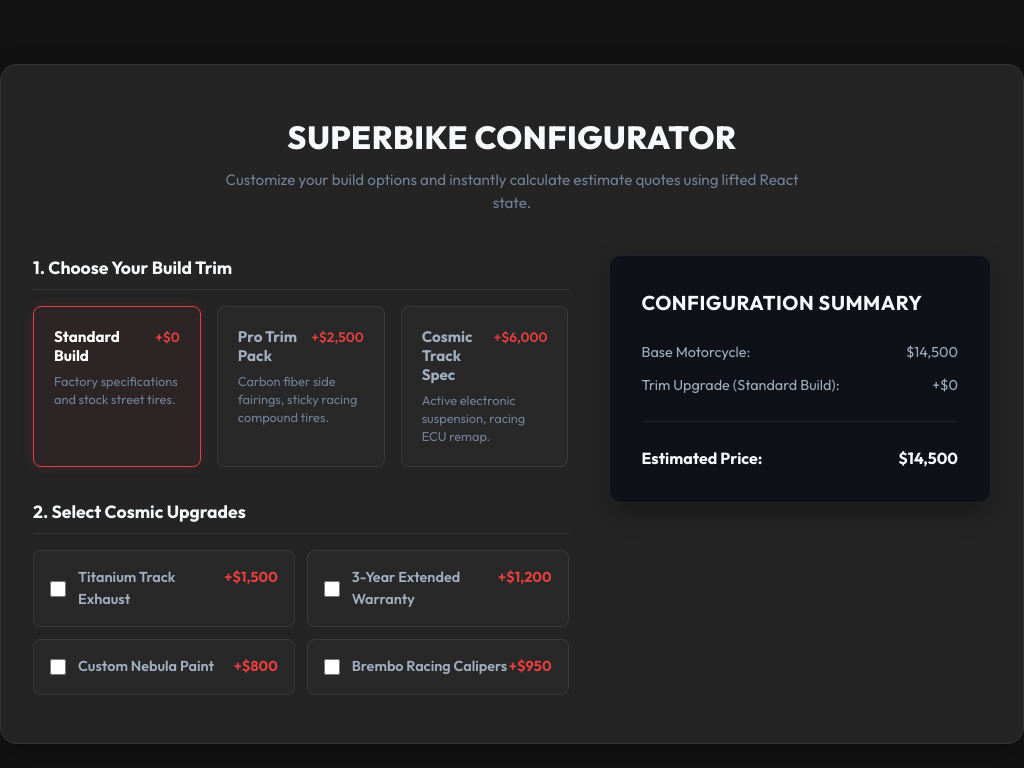
Test: BikeConfigurator Integration Test (Explicit Lifted State) › updates estimated price reactively when selecting a different trim tier
Select the "Pro Trim Pack" button
Click the button "Pro Trim Pack" at {"x": 301, "y": 386}, box [217,306,385,467]
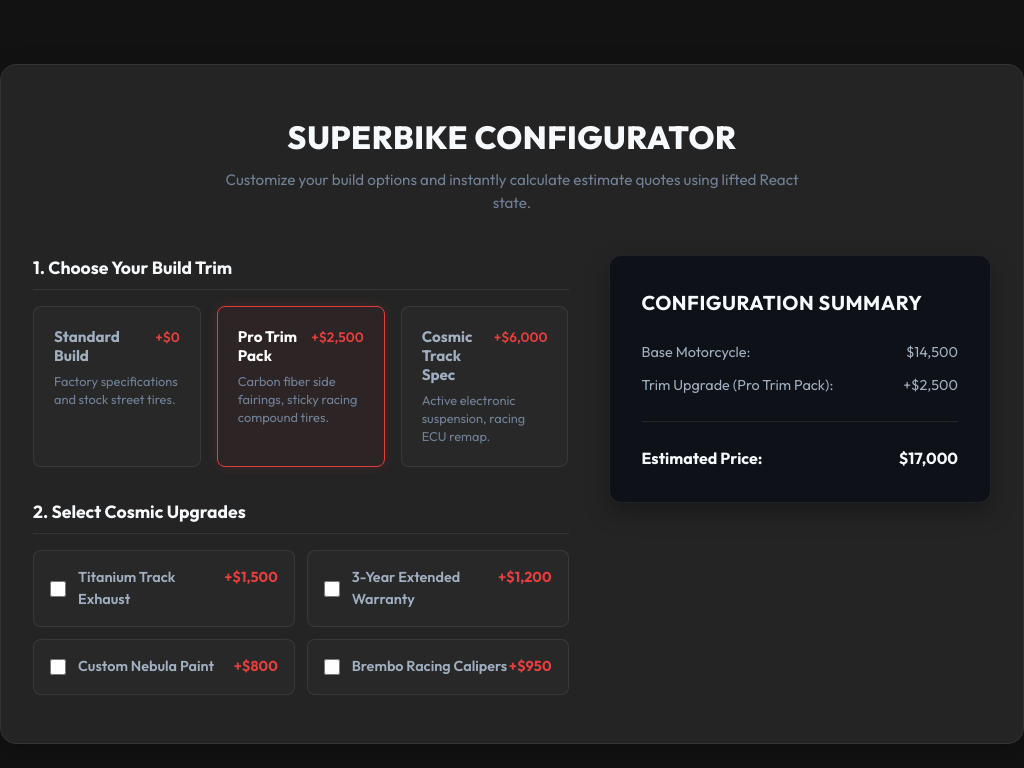
Expected: the text "+$2,500" is shown 2 times, [311,328,364,346]; [903,375,958,397]
Now the text "Trim Upgrade (Pro Trim Pack):" is shown, box [642,375,833,397]
Now the text "$17,000" is shown, box [899,446,958,470]
Select the "Cosmic Track Spec" button
Click the button "Cosmic Track Spec" at {"x": 485, "y": 386}, box [401,306,568,467]
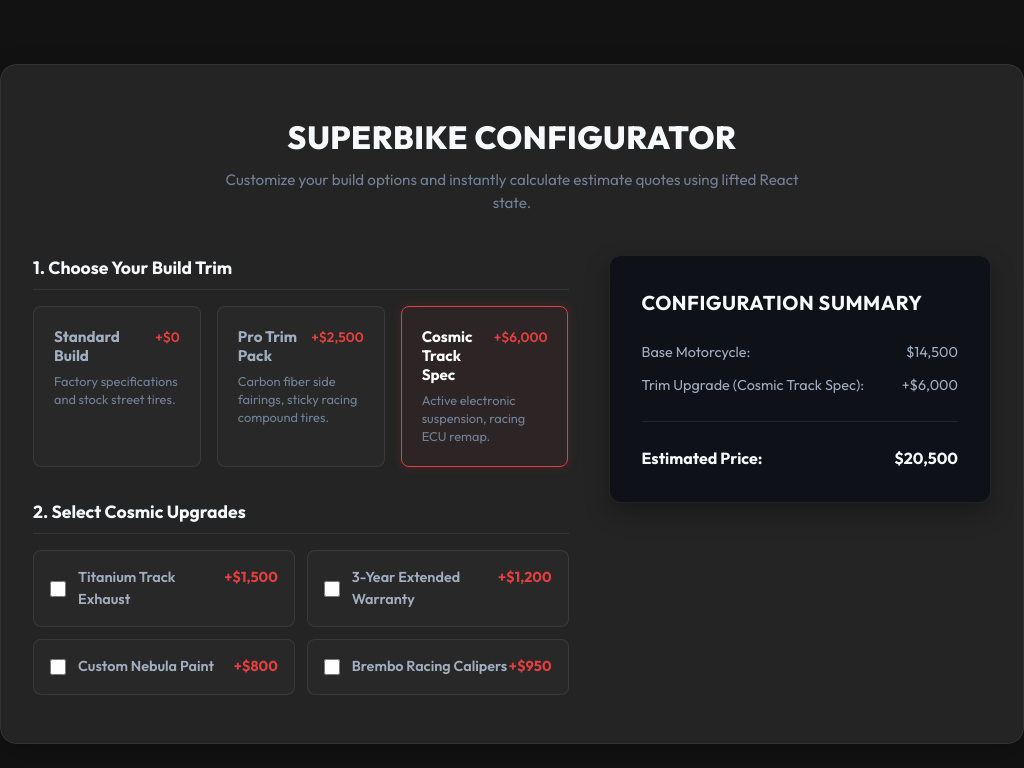
Expected: the text "+$6,000" is shown 2 times, [494,328,548,346]; [902,375,958,397]
Now the text "Trim Upgrade (Cosmic Track Spec):" is shown, box [642,375,864,397]
Now the text "$20,500" is shown, box [894,446,958,470]
